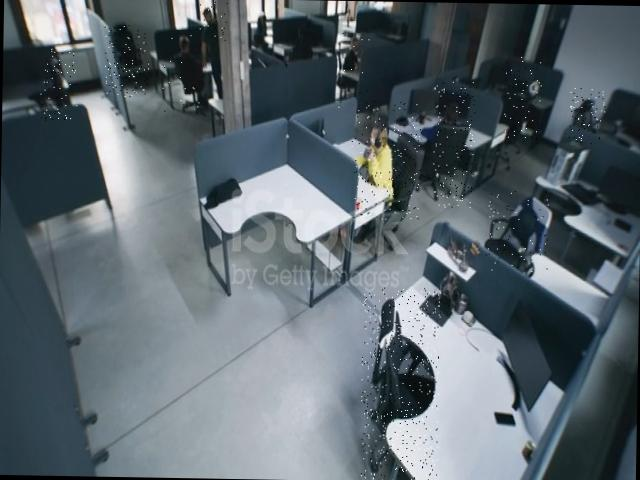empty chair: (359, 287, 441, 480), (485, 190, 550, 273), (502, 56, 542, 146), (103, 24, 150, 97), (40, 48, 78, 120), (568, 88, 606, 144)
occupiedchair: (350, 100, 422, 222), (432, 81, 476, 208), (162, 26, 212, 118), (335, 10, 371, 109)
